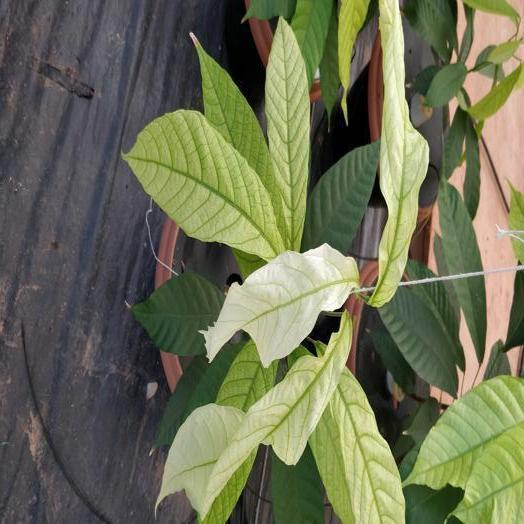Healthy Leaf: (302, 141, 379, 253), (155, 344, 239, 446), (378, 287, 457, 394), (131, 272, 224, 355), (407, 281, 463, 369), (272, 446, 323, 523), (439, 179, 480, 272), (291, 0, 332, 86), (403, 0, 456, 61), (452, 276, 486, 362), (427, 62, 466, 104), (407, 260, 435, 278)
Iron: (203, 313, 351, 505), (124, 110, 283, 259), (200, 244, 357, 366), (369, 0, 428, 306), (309, 368, 404, 523), (405, 376, 523, 488), (266, 18, 308, 249), (196, 44, 268, 177), (157, 404, 242, 512), (453, 422, 523, 523), (217, 340, 276, 411), (469, 65, 523, 120), (463, 0, 519, 27)
